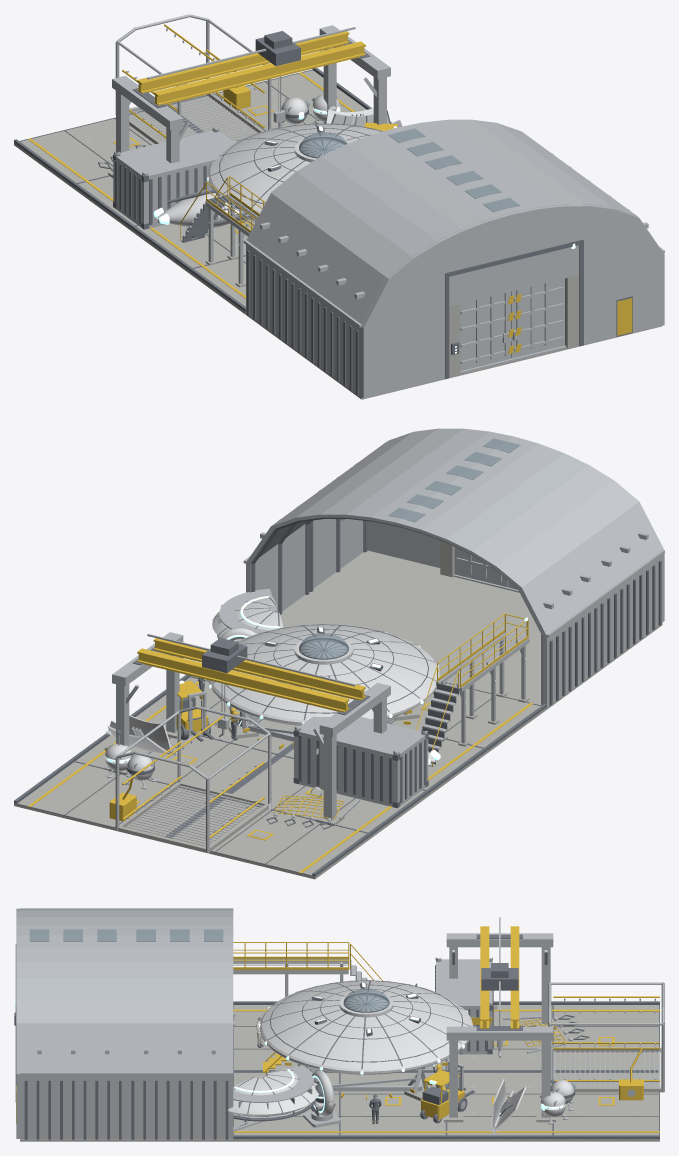
Rendered from ufo-crash-site-and-recovery-facility-hangar-bay-with-s-24046dba__17377.glb.
The picture shows the model from 3 angles, top to bottom: view 1: azimuth 30°, elevation 25°; view 2: azimuth 150°, elevation 25°; view 3: azimuth 270°, elevation 25°; orthographic projection. The views are drawn at different scales.
Visible parts, largest first — view 1: 005-hangar-bay-end-wall/0, 004-hangar-bay-shell-section/0, 000-bay-floor-slab/0, 007-saucer-craft-gear-stowed/1, 008-overhead-crane-rail/2, 014-transport-crate/0, 008-overhead-crane-rail/0, 005-hangar-bay-end-wall/2, 011-blast-door/door-right, 011-blast-door/door-left, 009-wash-down-bay/0, 002-bay-floor-slab/0 (+19 smaller); view 2: 005-hangar-bay-end-wall/0, 004-hangar-bay-shell-section/0, 000-bay-floor-slab/0, 007-saucer-craft-gear-stowed/1, 005-hangar-bay-end-wall/1, 001-bay-floor-slab/0, 004-hangar-bay-shell-section/1, 014-transport-crate/0, 008-overhead-crane-rail/0, 008-overhead-crane-rail/2, 009-wash-down-bay/0, 004-hangar-bay-shell-section/2 (+22 smaller); view 3: 005-hangar-bay-end-wall/0, 004-hangar-bay-shell-section/0, 007-saucer-craft-gear-stowed/1, 000-bay-floor-slab/0, 001-bay-floor-slab/0, 008-overhead-crane-rail/0, 002-bay-floor-slab/0, 003-bay-floor-slab/0, 009-wash-down-bay/0, 007-saucer-craft-gear-stowed/0, 014-transport-crate/0, 012-cutaway-hull-section/0 (+28 smaller).
Part boxes in pixels (bbox=[...]): 005-hangar-bay-end-wall/0: bbox=[301, 162, 664, 398]; 004-hangar-bay-shell-section/0: bbox=[243, 119, 590, 354]; 000-bay-floor-slab/0: bbox=[14, 70, 366, 187]; 007-saucer-craft-gear-stowed/1: bbox=[208, 124, 383, 213]; 008-overhead-crane-rail/2: bbox=[137, 31, 365, 105]; 014-transport-crate/0: bbox=[113, 127, 235, 227]; 008-overhead-crane-rail/0: bbox=[112, 25, 390, 163]; 005-hangar-bay-end-wall/2: bbox=[305, 239, 632, 395]; 011-blast-door/door-right: bbox=[511, 278, 564, 358]; 011-blast-door/door-left: bbox=[460, 292, 512, 370]; 009-wash-down-bay/0: bbox=[115, 14, 271, 141]; 002-bay-floor-slab/0: bbox=[130, 219, 255, 272]; 005-hangar-bay-end-wall/0: bbox=[313, 428, 664, 664]; 004-hangar-bay-shell-section/0: bbox=[243, 472, 606, 706]; 000-bay-floor-slab/0: bbox=[14, 762, 372, 879]; 007-saucer-craft-gear-stowed/1: bbox=[208, 625, 439, 725]; 005-hangar-bay-end-wall/1: bbox=[309, 550, 662, 666]; 001-bay-floor-slab/0: bbox=[76, 735, 430, 836]; 004-hangar-bay-shell-section/1: bbox=[280, 592, 604, 709]; 014-transport-crate/0: bbox=[294, 716, 428, 806]; 008-overhead-crane-rail/0: bbox=[112, 632, 390, 820]; 008-overhead-crane-rail/2: bbox=[137, 638, 365, 712]; 009-wash-down-bay/0: bbox=[115, 706, 271, 853]; 004-hangar-bay-shell-section/2: bbox=[251, 517, 603, 705]; 005-hangar-bay-end-wall/0: bbox=[16, 908, 126, 1138]; 004-hangar-bay-shell-section/0: bbox=[126, 908, 233, 1138]; 007-saucer-craft-gear-stowed/1: bbox=[260, 981, 472, 1074]; 000-bay-floor-slab/0: bbox=[553, 1005, 659, 1141]; 001-bay-floor-slab/0: bbox=[446, 1005, 553, 1141]; 008-overhead-crane-rail/0: bbox=[446, 917, 553, 1117]; 002-bay-floor-slab/0: bbox=[340, 1059, 446, 1141]; 003-bay-floor-slab/0: bbox=[233, 1005, 339, 1141]; 009-wash-down-bay/0: bbox=[548, 982, 664, 1096]; 007-saucer-craft-gear-stowed/0: bbox=[262, 980, 470, 1068]; 014-transport-crate/0: bbox=[435, 957, 492, 1054]; 012-cutaway-hull-section/0: bbox=[225, 1069, 319, 1116].
Bounding box in the file's own units: 18.75 × 8.6 × 36.63.
